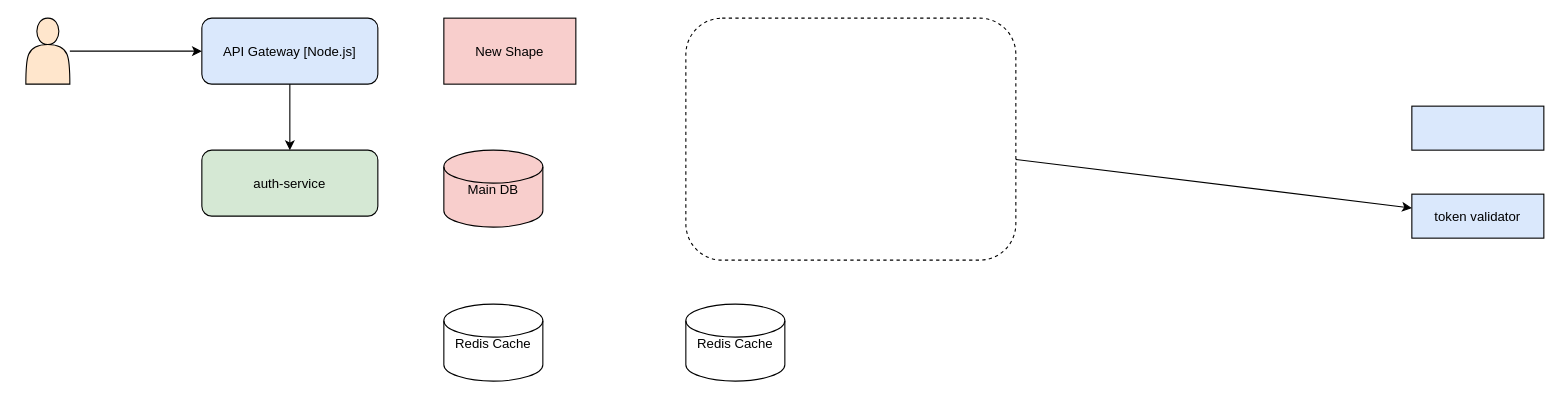
Image size: 1562x399. Some labels were removed from this diagram. Each missing label, with the box of its shape:
API Gateway: (685, 17, 1016, 260)
Customer: (25, 17, 70, 84)
Request Router: (1411, 105, 1544, 150)
